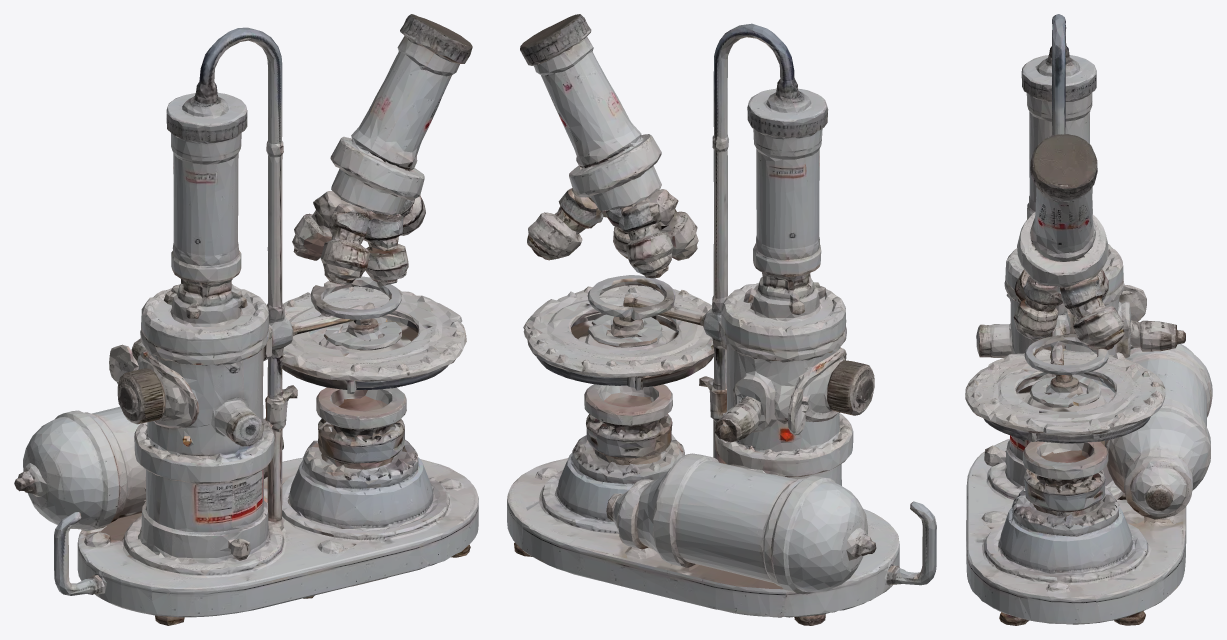
Rendered from head (105).glb.
3 views of the same model, side by side, from view 1: azimuth 30°, elevation 25°; view 2: azimuth 150°, elevation 25°; view 3: azimuth 270°, elevation 25° (orthographic). The views are drawn at different scales.
Visible parts, largest first — view 1: Hy21_Mesh.obj; view 2: Hy21_Mesh.obj; view 3: Hy21_Mesh.obj.
Part boxes in pixels (x1=…): Hy21_Mesh.obj: x1=14, y1=14, x2=478, y2=625; Hy21_Mesh.obj: x1=507, y1=14, x2=936, y2=625; Hy21_Mesh.obj: x1=965, y1=14, x2=1212, y2=625.
Size of the model in its own units: 1.54 by 1.96 by 0.8515.
Materials: 1 (1 with a texture image).
